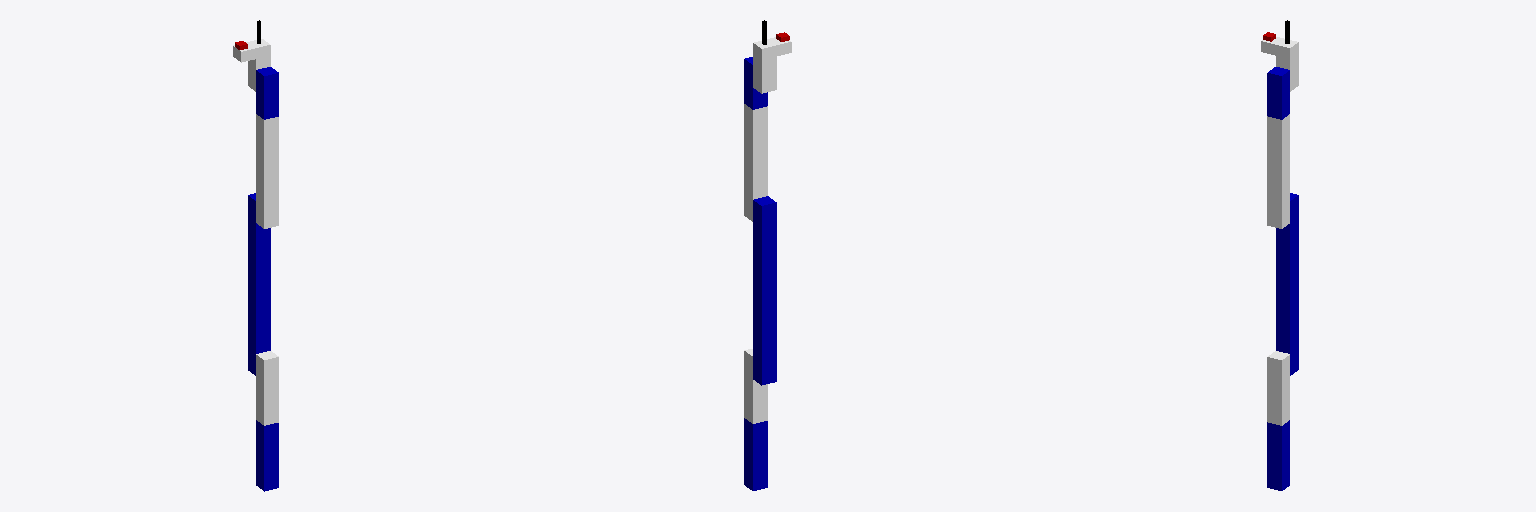
The robot description file, URDF, robot "myrobot":
<?xml version="1.0" ?>
<!-- =================================================================================== -->
<!-- |    This document was autogenerated by xacro from robot_model.xacro              | -->
<!-- |    EDITING THIS FILE BY HAND IS NOT RECOMMENDED                                 | -->
<!-- =================================================================================== -->
<robot name="myrobot">
  <!--materials-->
  <material name="blue">
    <color rgba="0 0 0.8 1"/>
  </material>
  <material name="black">
    <color rgba="0 0 0 1"/>
  </material>
  <material name="white">
    <color rgba="1 1 1 1"/>
  </material>
  <material name="red">
    <color rgba="0.8 0.0 0.0 1.0"/>
  </material>
  <!--world link-->
  <link name="world"/>
  <!--base link-->
  <link name="link_base">
    <visual>
      <origin xyz="0.0 0.0 0.15"/>
      <geometry>
        <box size="0.07 0.07 0.3"/>
      </geometry>
      <material name="blue"/>
    </visual>
    <collision>
      <origin xyz="0.0 0.0 0.15"/>
      <geometry>
        <box size="0.07 0.07 0.3"/>
      </geometry>
    </collision>
    <inertial>
      <mass value="1"/>
      <inertia ixx="1.0" ixy="0.0" ixz="0.0" iyy="1.0" iyz="0.0" izz="1.0"/>
    </inertial>
  </link>
  <gazebo reference="link_base">
    <mu1>0.2</mu1>
    <mu2>0.2</mu2>
    <material>Gazebo/Blue</material>
  </gazebo>
  <!--second link z-axis rotate-->
  <link name="link_1">
    <visual>
      <origin xyz="0.0 0.0 0.15"/>
      <geometry>
        <box size="0.07 0.07 0.3"/>
      </geometry>
      <material name="white"/>
    </visual>
    <collision>
      <origin xyz="0.0 0.0 0.15"/>
      <geometry>
        <box size="0.07 0.07 0.3"/>
      </geometry>
    </collision>
    <inertial>
      <mass value="1"/>
      <inertia ixx="1.0" ixy="0.0" ixz="0.0" iyy="1.0" iyz="0.0" izz="1.0"/>
    </inertial>
  </link>
  <gazebo reference="link_1">
    <mu1>0.2</mu1>
    <mu2>0.2</mu2>
    <material>Gazebo/White</material>
  </gazebo>
  <!--3th link z-axis rotate-->
  <link name="link_2">
    <visual>
      <origin xyz="0.0 0.0 0.35"/>
      <geometry>
        <box size="0.07 0.07 0.8"/>
      </geometry>
      <material name="blue"/>
    </visual>
    <collision>
      <origin xyz="0.0 0.0 0.35"/>
      <geometry>
        <box size="0.07 0.07 0.8"/>
      </geometry>
    </collision>
    <inertial>
      <mass value="2"/>
      <inertia ixx="1.0" ixy="0.0" ixz="0.0" iyy="1.0" iyz="0.0" izz="1.0"/>
    </inertial>
  </link>
  <gazebo reference="link_2">
    <mu1>0.2</mu1>
    <mu2>0.2</mu2>
    <material>Gazebo/Blue</material>
  </gazebo>
  <!--4th link z-axis rotate-->
  <link name="link_3">
    <visual>
      <origin xyz="0.0 0.0 0.20"/>
      <geometry>
        <box size="0.07 0.07 0.5"/>
      </geometry>
      <material name="white"/>
    </visual>
    <collision>
      <origin xyz="0.0 0.0 0.20"/>
      <geometry>
        <box size="0.07 0.07 0.5"/>
      </geometry>
    </collision>
    <inertial>
      <mass value="1.5"/>
      <inertia ixx="1.0" ixy="0.0" ixz="0.0" iyy="1.0" iyz="0.0" izz="1.0"/>
    </inertial>
  </link>
  <gazebo reference="link_3">
    <mu1>0.2</mu1>
    <mu2>0.2</mu2>
    <material>Gazebo/White</material>
  </gazebo>
  <!--5th link z-axis rotate-->
  <link name="link_4">
    <visual>
      <origin xyz="0.0 0.0 0.1"/>
      <geometry>
        <box size="0.07 0.07 0.2"/>
      </geometry>
      <material name="blue"/>
    </visual>
    <collision>
      <origin xyz="0.0 0.0 0.1"/>
      <geometry>
        <box size="0.07 0.07 0.2"/>
      </geometry>
    </collision>
    <inertial>
      <mass value="0.7"/>
      <inertia ixx="1.0" ixy="0.0" ixz="0.0" iyy="1.0" iyz="0.0" izz="1.0"/>
    </inertial>
  </link>
  <gazebo reference="link_4">
    <mu1>0.2</mu1>
    <mu2>0.2</mu2>
    <material>Gazebo/Blue</material>
  </gazebo>
  <!--gripper link-->
  <link name="link_gripper">
    <visual>
      <origin xyz="0.0 0.0 0.05"/>
      <geometry>
        <box size="0.07 0.07 0.2"/>
      </geometry>
      <material name="white"/>
    </visual>
    <collision>
      <origin xyz="0.0 0.0 0.05"/>
      <geometry>
        <box size="0.07 0.07 0.2"/>
      </geometry>
    </collision>
    <inertial>
      <mass value="0.2"/>
      <inertia ixx="1.0" ixy="0.0" ixz="0.0" iyy="1.0" iyz="0.0" izz="1.0"/>
    </inertial>
  </link>
  <gazebo reference="link_gripper">
    <mu1>0.2</mu1>
    <mu2>0.2</mu2>
    <material>Gazebo/White</material>
  </gazebo>
  <!--CameraHolder link-->
  <link name="link_cameraHolder">
    <visual>
      <origin xyz="0.0 0.0 0.0"/>
      <geometry>
        <box size="0.07 0.07 0.05"/>
      </geometry>
      <material name="white"/>
    </visual>
    <collision>
      <origin xyz="0.0 0.0 0.0"/>
      <geometry>
        <box size="0.07 0.07 0.05"/>
      </geometry>
    </collision>
    <inertial>
      <mass value="0.2"/>
      <inertia ixx="1.0" ixy="0.0" ixz="0.0" iyy="1.0" iyz="0.0" izz="1.0"/>
    </inertial>
  </link>
  <gazebo reference="link_cameraHolder">
    <mu1>0.2</mu1>
    <mu2>0.2</mu2>
    <material>Gazebo/White</material>
  </gazebo>
  <!--camera link -->
  <link name="link_camera">
    <visual>
      <origin xyz="0.0 0.0 0.0"/>
      <geometry>
        <box size="0.02 0.04 0.04"/>
      </geometry>
      <material name="red"/>
    </visual>
    <collision>
      <origin xyz="0.0 0.0 0.0"/>
      <geometry>
        <box size="0.02 0.04 0.04"/>
      </geometry>
    </collision>
    <inertial>
      <mass value="0.1"/>
      <inertia ixx="1.0" ixy="0.0" ixz="0.0" iyy="1.0" iyz="0.0" izz="1.0"/>
    </inertial>
  </link>
  <gazebo reference="link_camera">
    <material>Gazebo/Red</material>
  </gazebo>
  <!--vacuum link -->
  <link name="link_vacuum">
    <visual>
      <origin rpy="0.0 1.5707963267948966 0.0" xyz="-0.05 0.0 0.0"/>
      <geometry>
        <cylinder length="0.1" radius="0.01"/>
      </geometry>
      <material name="black"/>
    </visual>
    <collision>
      <origin rpy="0.0 1.5707963267948966 0.0" xyz="-0.05 0.0 0.0"/>
      <geometry>
        <cylinder length="0.1" radius="0.01"/>
      </geometry>
    </collision>
    <inertial>
      <mass value="0.1"/>
      <inertia ixx="1.0" ixy="0.0" ixz="0.0" iyy="1.0" iyz="0.0" izz="1.0"/>
    </inertial>
  </link>
  <gazebo reference="link_vacuum">
    <mu1>0.2</mu1>
    <mu2>0.2</mu2>
    <material>Gazebo/Black</material>
  </gazebo>
  <!--joint of world and link_base-->
  <joint name="joint_world_base" type="fixed">
    <origin rpy="0 0 0" xyz="0 0 0"/>
    <parent link="world"/>
    <child link="link_base"/>
  </joint>
  <!--joint of link_base and link_1-->
  <joint name="joint_base_1" type="revolute">
    <parent link="link_base"/>
    <child link="link_1"/>
    <origin xyz="0.0 0.0 0.3"/>
    <axis xyz="0 0 1"/>
    <limit effort="1000.0" lower="-2.5" upper="2.5" velocity="5.0"/>
    <dynamics damping="0.7" friction="0.7"/>
  </joint>
  <!--joint of link_1 and link_2-->
  <joint name="joint_1_2" type="revolute">
    <parent link="link_1"/>
    <child link="link_2"/>
    <origin xyz="0.0 0.07 0.25"/>
    <axis xyz="0 1 0"/>
    <limit effort="1000.0" lower="-2.0" upper="2.0" velocity="5.0"/>
    <dynamics damping="0.7" friction="0.7"/>
  </joint>
  <!--joint of link_2 and link_3-->
  <joint name="joint_2_3" type="revolute">
    <parent link="link_2"/>
    <child link="link_3"/>
    <origin xyz="0.0 -0.07 0.7"/>
    <axis xyz="0 1 0"/>
    <limit effort="1000.0" lower="-2.0" upper="2.0" velocity="5.0"/>
    <dynamics damping="0.7" friction="0.7"/>
  </joint>
  <!--joint of link_3 and link_4-->
  <joint name="joint_3_4" type="revolute">
    <parent link="link_3"/>
    <child link="link_4"/>
    <origin xyz="0.0 0.0 0.45"/>
    <axis xyz="0 0 1"/>
    <limit effort="1000.0" lower="-2.5" upper="2.5" velocity="5.0"/>
    <dynamics damping="0.7" friction="0.7"/>
  </joint>
  <!--joint of link_4 and link_gripper-->
  <joint name="joint_4_gripper" type="revolute">
    <parent link="link_4"/>
    <child link="link_gripper"/>
    <origin xyz="0.0 0.07 0.15"/>
    <axis xyz="0 1 0"/>
    <limit effort="1000.0" lower="-2.0" upper="2.0" velocity="5.0"/>
    <dynamics damping="0.7" friction="0.7"/>
  </joint>
  <!--joint of link_gripper and link_cameraHolder-->
  <joint name="joint_gripper_cameraHolder" type="fixed">
    <origin rpy="0 0 0" xyz="-0.07 0 0.125"/>
    <parent link="link_gripper"/>
    <child link="link_cameraHolder"/>
  </joint>
  <!--joint of link_cameraHolder and link_camera-->
  <joint name="joint_cameraHolder_camera" type="fixed">
    <parent link="link_cameraHolder"/>
    <child link="link_camera"/>
    <origin rpy="0.0 -1.5707963267948966 0.0" xyz="-0.015 0.0 0.035"/>
  </joint>
  <!--joint of link_gripper and link_vacuum-->
  <joint name="joint_gripper_vacuum" type="revolute">
    <parent link="link_gripper"/>
    <child link="link_vacuum"/>
    <origin rpy="0.0 -1.5707963267948966 0.0" xyz="0.0 0.0 0.25"/>
    <axis xyz="1 0 0"/>
    <limit effort="1000.0" lower="-2.0" upper="2.0" velocity="5.0"/>
    <dynamics damping="0.7" friction="0.7"/>
  </joint>
  <!--joint and link for camera-->
  <joint name="camera_optical_joint" type="fixed">
    <origin rpy="-1.5707963267948966 0 -1.5707963267948966" xyz="0 0 0"/>
    <!-- <origin xyz="0 0.1 0" rpy="0 ${-pi/2} 0"/> -->
    <parent link="link_camera"/>
    <child link="camera_link_optical"/>
  </joint>
  <link name="camera_link_optical">
    </link>
  <!--ros2_control module-->
  <ros2_control name="GazeboSystem" type="system">
    <hardware>
      <plugin>gazebo_ros2_control/GazeboSystem</plugin>
    </hardware>
    <joint name="joint_base_1">
      <command_interface name="position">
        <param name="min">-2.5</param>
        <param name="max">2.5</param>
      </command_interface>
      <state_interface name="position"/>
      <state_interface name="velocity"/>
      <state_interface name="effort"/>
    </joint>
    <joint name="joint_1_2">
      <command_interface name="position">
        <param name="min">-2.0</param>
        <param name="max">2.0</param>
      </command_interface>
      <state_interface name="position"/>
      <state_interface name="velocity"/>
      <state_interface name="effort"/>
    </joint>
    <joint name="joint_2_3">
      <command_interface name="position">
        <param name="min">-2.0</param>
        <param name="max">2.0</param>
      </command_interface>
      <state_interface name="position"/>
      <state_interface name="velocity"/>
      <state_interface name="effort"/>
    </joint>
    <joint name="joint_3_4">
      <command_interface name="position">
        <param name="min">-2.5</param>
        <param name="max">2.5</param>
      </command_interface>
      <state_interface name="position"/>
      <state_interface name="velocity"/>
      <state_interface name="effort"/>
    </joint>
    <joint name="joint_4_gripper">
      <command_interface name="position">
        <param name="min">-2.0</param>
        <param name="max">2.0</param>
      </command_interface>
      <state_interface name="position"/>
      <state_interface name="velocity"/>
      <state_interface name="effort"/>
    </joint>
    <joint name="joint_gripper_vacuum">
      <command_interface name="position">
        <param name="min">-2.0</param>
        <param name="max">2.0</param>
      </command_interface>
      <state_interface name="position"/>
      <state_interface name="velocity"/>
      <state_interface name="effort"/>
    </joint>
  </ros2_control>
  <!--gazebo plugins-->
  <!--plugin for ros2 control-->
  <gazebo>
    <plugin filename="libgazebo_ros2_control.so" name="gazebo_ros2_control">
      <parameters>[local-path]/ws_myrobot/install/myrobot/share/myrobot/model/myrobot_ros2_controllers.yaml</parameters>
      <!-- <robotNamespace>/myrobot</robotNamespace> -->
    </plugin>
  </gazebo>
  <!--plugin for camera-->
  <gazebo reference="link_camera">
    <sensor name="camera1" type="camera">
      <update_rate>30.0</update_rate>
      <camera name="head">
        <horizontal_fov>1.3962634</horizontal_fov>
        <image>
          <width>800</width>
          <height>800</height>
          <format>R8G8B8</format>
        </image>
        <clip>
          <near>0.02</near>
          <far>300</far>
        </clip>
        <noise>
          <type>gaussian</type>
          <!-- Noise is sampled independently per pixel on each frame.
            That pixel's noise value is added to each of its color
            channels, which at that point lie in the range [0,1]. -->
          <mean>0.0</mean>
          <stddev>0.007</stddev>
        </noise>
      </camera>
      <plugin filename="libgazebo_ros_camera.so" name="camera_controller">
        <alwaysOn>true</alwaysOn>
        <updateRate>0.0</updateRate>
        <cameraName>myrobot/camera1</cameraName>
        <imageTopicName>image_raw</imageTopicName>
        <cameraInfoTopicName>camera_info</cameraInfoTopicName>
        <frameName>camera_link_optical</frameName>
        <!-- setting hackBaseline to anything but 0.0 will cause a misalignment
          between the gazebo sensor image and the frame it is supposed to
          be attached to -->
        <hackBaseline>0.0</hackBaseline>
        <distortionK1>0.0</distortionK1>
        <distortionK2>0.0</distortionK2>
        <distortionK3>0.0</distortionK3>
        <distortionT1>0.0</distortionT1>
        <distortionT2>0.0</distortionT2>
        <CxPrime>0</CxPrime>
        <Cx>0.0</Cx>
        <Cy>0.0</Cy>
        <focalLength>0.0</focalLength>
      </plugin>
    </sensor>
  </gazebo>
  <!--plugin for vacuum gripper-->
  <!-- <gazebo>
      <plugin name="gazebo_ros_vacuum_gripper" filename="libgazebo_ros_vacuum_gripper.so">
        <robotNamespace>/robot_model/link_vacuum</robotNamespace>
        <bodyName>link_vacuum</bodyName>
        <topicName>grasping</topicName>
        <maxForce>50</maxForce>
        <maxDistance>0.05</maxDistance>
        <minDistance>0.01</minDistance>
      </plugin>
    </gazebo> -->
  <gazebo>
    <plugin filename="libgazebo_ros_vacuum_gripper.so" name="vacuum_gripper">
      <ros>
        <namespace>/robot_model</namespace>
      </ros>
      <link_name>link_vacuum</link_name>
      <maxDistance>0.05</maxDistance>
    </plugin>
  </gazebo>
</robot>

--- Facts derived from the render (not from the file) ---
Views: 3 orthographic renders of the robot side by side, from view 1: azimuth 30°, elevation 25°; view 2: azimuth 210°, elevation 25°; view 3: azimuth 330°, elevation 25°.
Model myrobot with 11 links and 10 joints (6 revolute, 4 fixed), rooted at world, posed every joint at zero.
Visible links, largest first — view 1: link_2, link_3, link_1, link_base, link_4, link_gripper; view 2: link_2, link_3, link_base, link_1, link_gripper, link_4; view 3: link_2, link_3, link_1, link_base, link_4, link_gripper.
Boxes of the visible links, <box> form: link_2: <box>248,193,270,375</box>; link_3: <box>256,114,278,228</box>; link_1: <box>256,351,278,425</box>; link_base: <box>256,420,278,491</box>; link_4: <box>256,67,278,119</box>; link_gripper: <box>248,39,270,91</box>; link_2: <box>753,196,776,385</box>; link_3: <box>744,104,767,221</box>; link_base: <box>744,418,767,490</box>; link_1: <box>744,349,767,423</box>; link_gripper: <box>753,39,776,93</box>; link_4: <box>744,57,767,109</box>; link_2: <box>1276,193,1298,375</box>; link_3: <box>1267,114,1289,228</box>; link_1: <box>1267,351,1289,425</box>; link_base: <box>1267,420,1289,490</box>; link_4: <box>1267,67,1289,119</box>; link_gripper: <box>1276,39,1298,91</box>.
Size in the robot's own frame: 0.14 by 0.14 by 2.1 metres.
Geometry: primitives only (box / cylinder / sphere), no mesh files.
